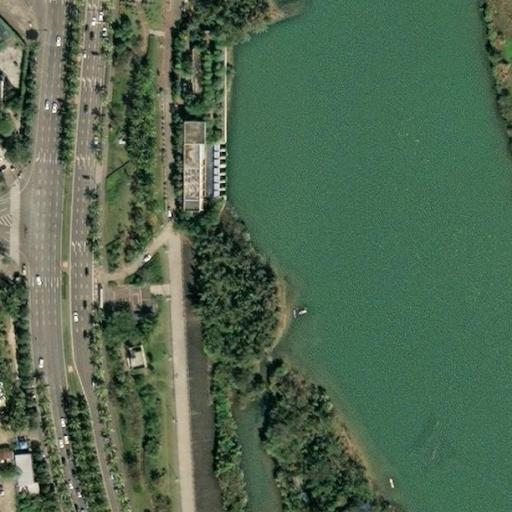building: (183, 122, 205, 213), (7, 454, 29, 486), (124, 340, 146, 365), (188, 49, 200, 93), (17, 483, 31, 498)
